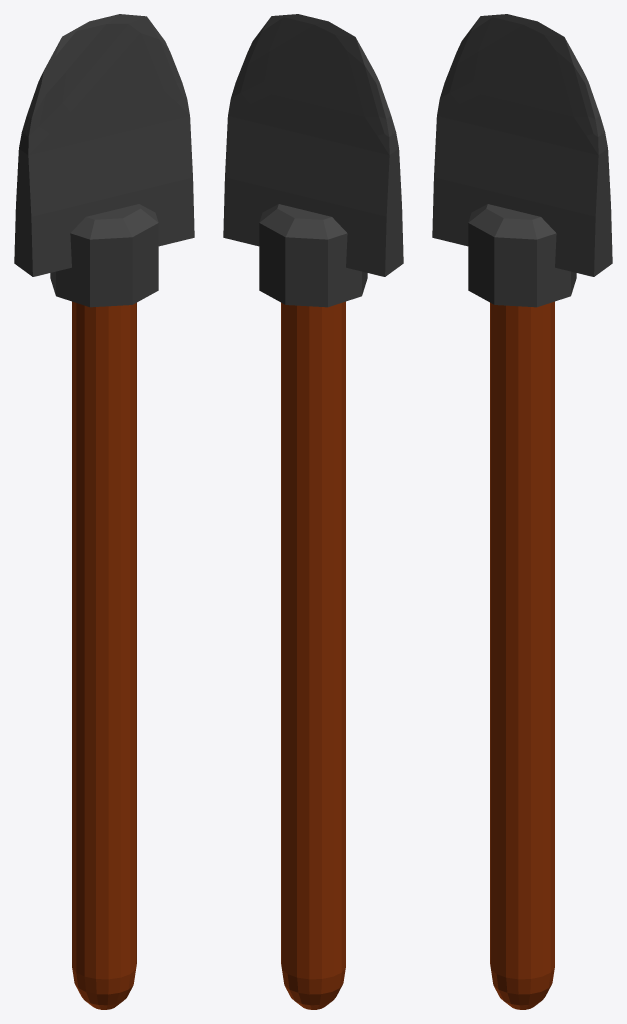
File: Shovel.obj
3 renders of one model, left to right at view 1: azimuth 30°, elevation 25°; view 2: azimuth 150°, elevation 25°; view 3: azimuth 330°, elevation 25°, orthographic.
Parts seen in each view (by area): view 1: Sphere_Sphere.001, Cube_Cube.002; view 2: Sphere_Sphere.001, Cube_Cube.002; view 3: Sphere_Sphere.001, Cube_Cube.002.
Boxes of the visible parts, x1=… form: Sphere_Sphere.001: x1=72, y1=301, x2=136, y2=1009; Cube_Cube.002: x1=14, y1=14, x2=194, y2=307; Sphere_Sphere.001: x1=281, y1=301, x2=345, y2=1009; Cube_Cube.002: x1=223, y1=14, x2=403, y2=307; Sphere_Sphere.001: x1=490, y1=301, x2=554, y2=1009; Cube_Cube.002: x1=432, y1=14, x2=612, y2=307.
Bounding box in the file's own units: 0.4 × 2.34 × 0.24.
